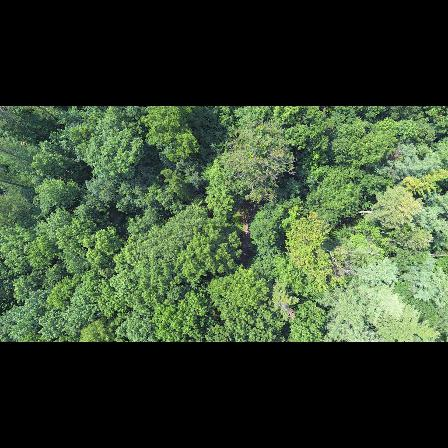Dead: (319, 245, 364, 280)
